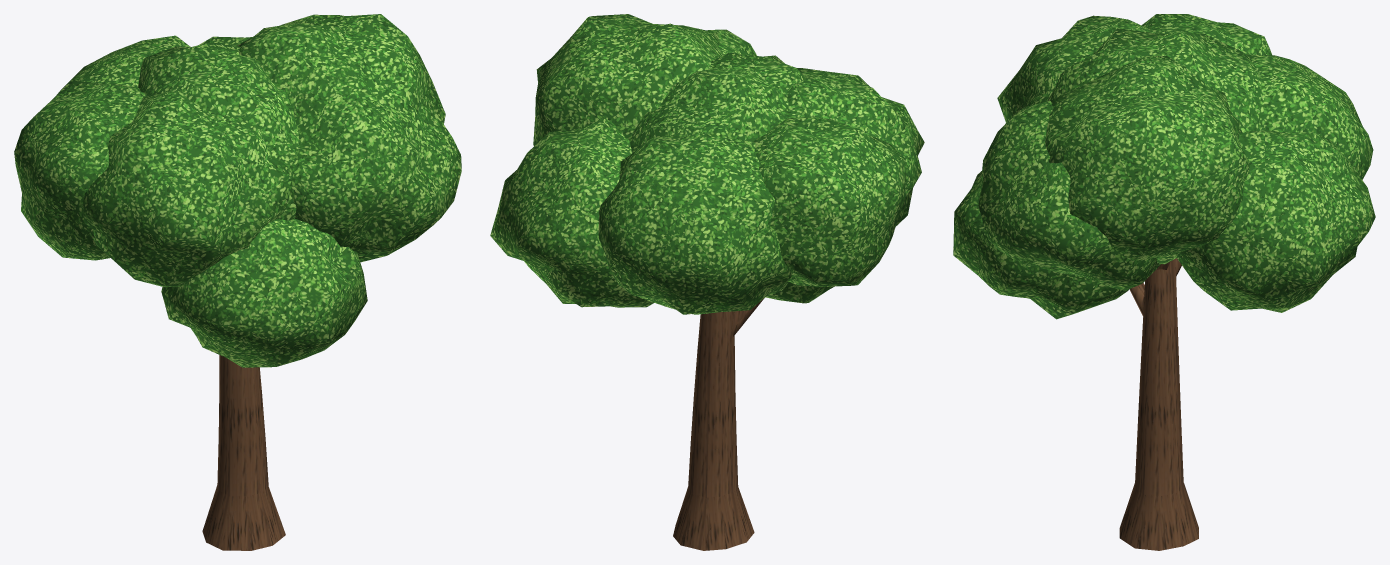
The model's file is tree_c.glb.
3 renders of one model, left to right at view 1: azimuth 30°, elevation 25°; view 2: azimuth 150°, elevation 25°; view 3: azimuth 270°, elevation 25°, orthographic. The views are drawn at different scales.
Visible parts, largest first — view 1: tree_c; view 2: tree_c; view 3: tree_c.
Part boxes in pixels (x1,y1,x2,y2): tree_c: (14,14,461,550); tree_c: (490,14,924,550); tree_c: (953,14,1375,550).
Size of the model in its own units: 4.64 by 5.88 by 4.57.
2 materials, 2 textured.
